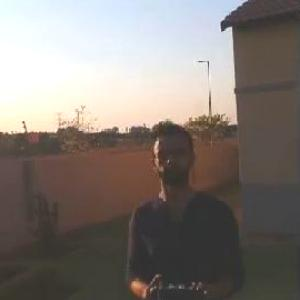follow: (121, 119, 253, 299)
